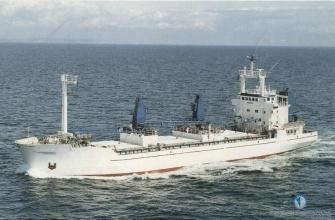Cargoship: (18, 52, 324, 181)
